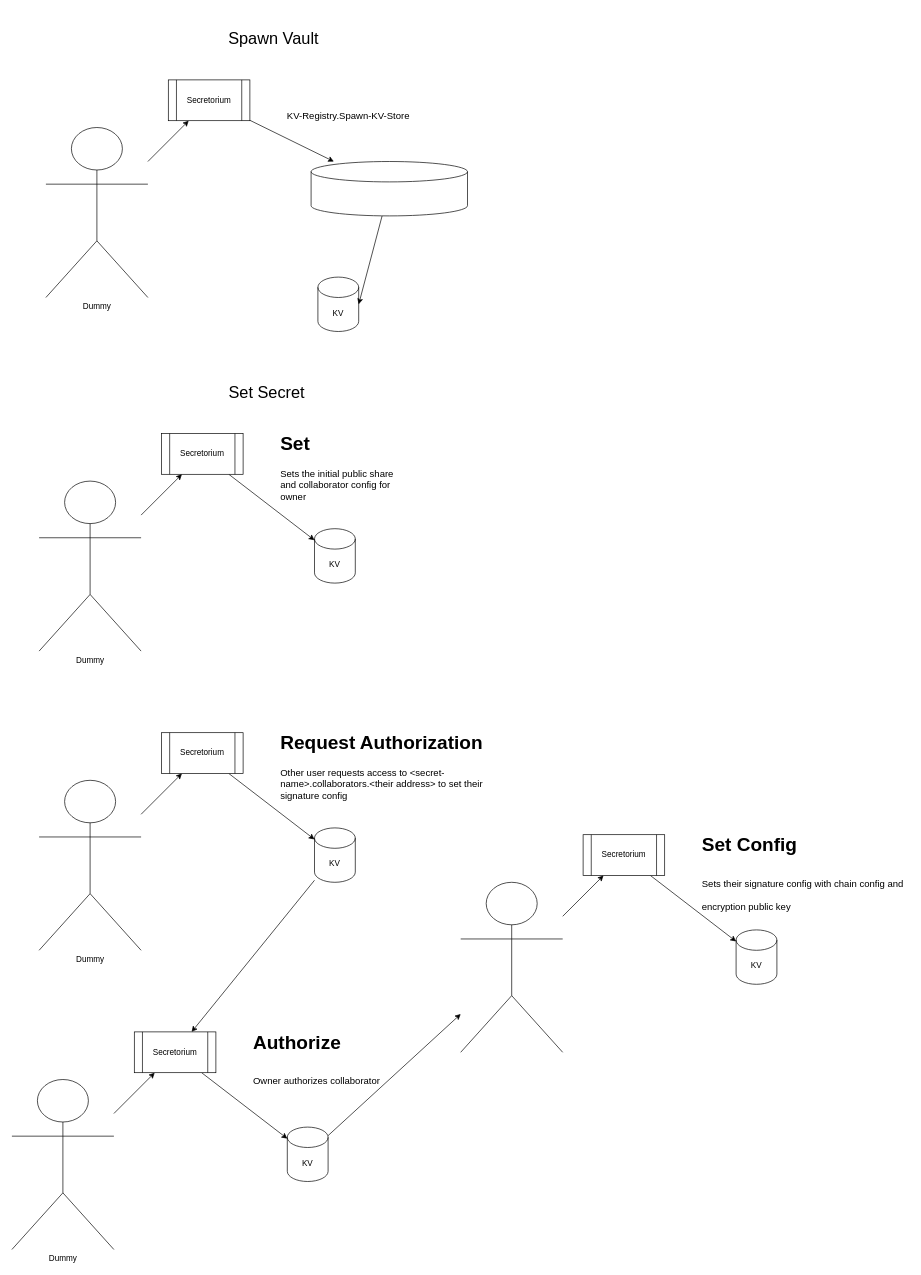
The diagram is 921 pixels wide and 1275 high, and some of its shapes have lost their labels. The shapes that lost their labels are listed below. From the top down, each one's centre as x and y in pixels, then its label:
(x=389, y=188): KV - Registry
(x=511, y=967): Collaborator
